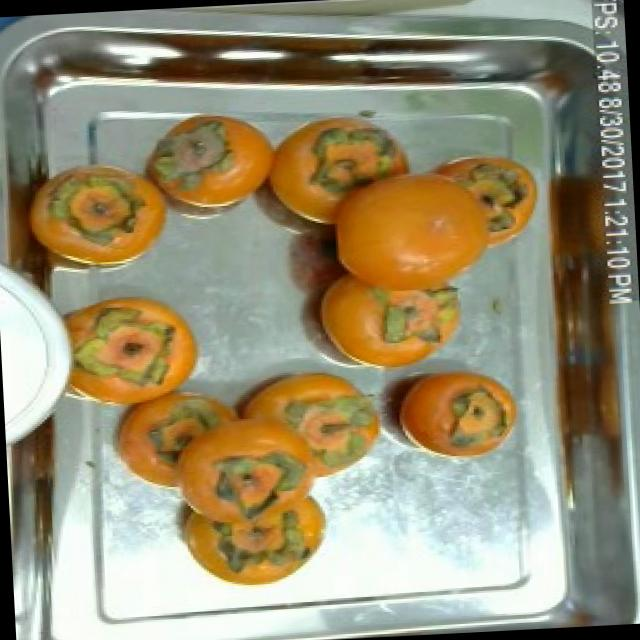Fruit: (370, 138, 554, 295), (38, 276, 216, 424), (5, 143, 186, 286), (122, 102, 294, 244), (379, 357, 534, 473)
